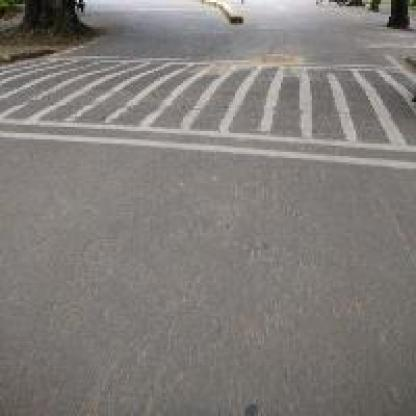Speed Bump: (0, 50, 414, 170)
